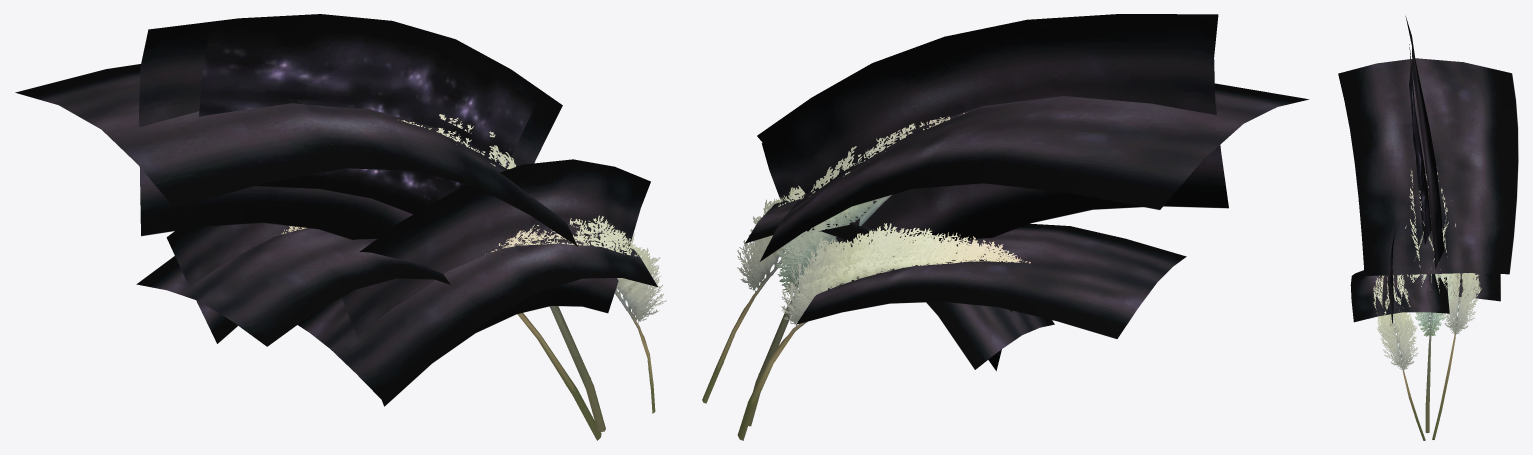
3 views of the same model, side by side, from view 1: azimuth 30°, elevation 25°; view 2: azimuth 150°, elevation 25°; view 3: azimuth 270°, elevation 25° (orthographic). The views are drawn at different scales.
Size of the model in its own units: 14.8 by 13.74 by 7.52.
Materials: 3 (3 with a texture image).
